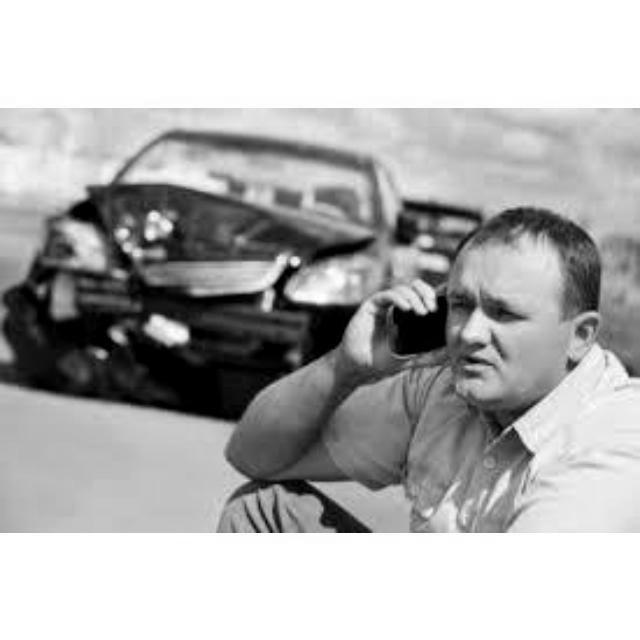bonnet-dent: (98, 173, 321, 282)
front-bumper-dent: (42, 289, 288, 365)
